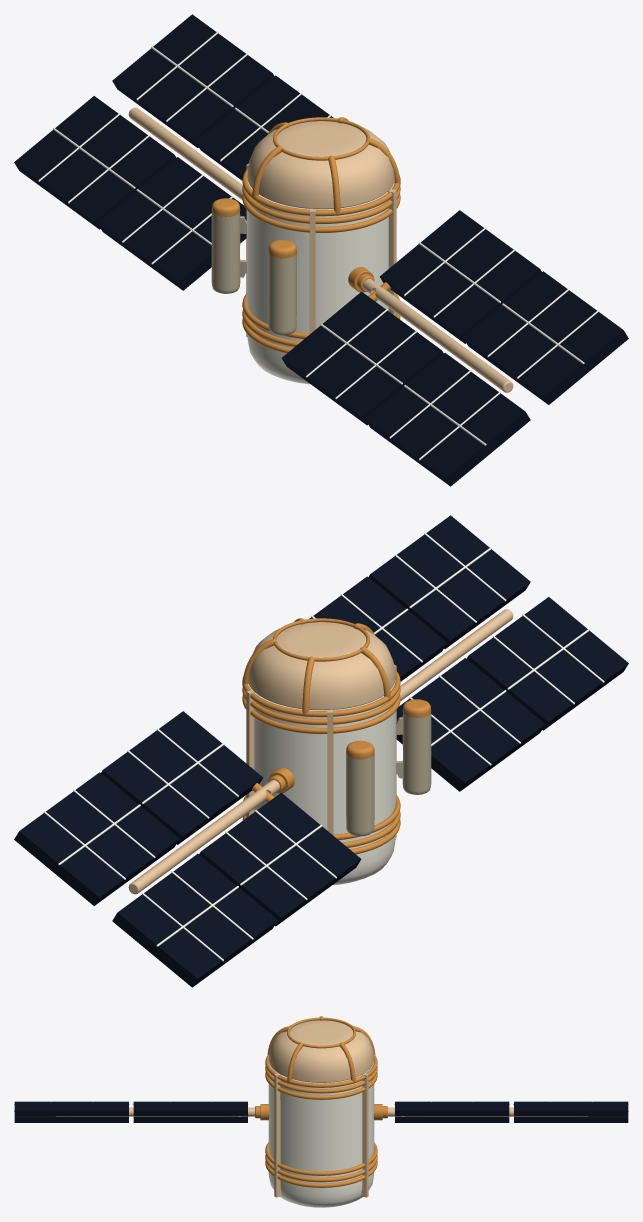
File: ㅇㅜㅈㅜㅈㅓㅇㄱㅓㅈㅏㅇ.fbx
3 renders of one model, top to bottom at view 1: azimuth 30°, elevation 25°; view 2: azimuth 150°, elevation 25°; view 3: azimuth 270°, elevation 25°, orthographic. The views are drawn at different scales.
Visible parts, largest first — view 1: Object_3, Object_6, Object_32, Object_15, Object_5, Object_12, Object_4, Object_29, Object_14, Object_13, Object_25, Object_24 (+14 smaller); view 2: Object_12, Object_15, Object_32, Object_6, Object_3, Object_14, Object_13, Object_29, Object_5, Object_4, Object_25, Object_22 (+14 smaller); view 3: Object_32, Object_29, Object_25, Object_4, Object_13, Object_6, Object_15, Object_35, Object_36, Object_3, Object_12, Object_5 (+8 smaller).
Part boxes in pixels (<box>): Object_3: <box>365,353,530,486</box>; Object_6: <box>463,271,628,404</box>; Object_32: <box>247,179,394,384</box>; Object_15: <box>112,14,274,147</box>; Object_5: <box>281,291,443,425</box>; Object_12: <box>14,96,176,229</box>; Object_4: <box>379,210,541,343</box>; Object_29: <box>247,121,394,209</box>; Object_14: <box>97,157,246,290</box>; Object_13: <box>196,75,333,180</box>; Object_25: <box>242,117,400,216</box>; Object_24: <box>211,212,246,293</box>; Object_12: <box>112,854,277,987</box>; Object_15: <box>14,772,179,905</box>; Object_32: <box>248,680,395,885</box>; Object_6: <box>368,515,530,648</box>; Object_3: <box>466,597,628,730</box>; Object_14: <box>199,792,361,926</box>; Object_13: <box>101,711,263,844</box>; Object_29: <box>248,622,395,710</box>; Object_5: <box>396,658,545,791</box>; Object_4: <box>309,576,446,681</box>; Object_25: <box>242,618,400,717</box>; Object_22: <box>396,713,431,794</box>; Object_32: <box>268,1061,374,1207</box>; Object_29: <box>268,1020,374,1082</box>; Object_25: <box>265,1016,377,1087</box>; Object_4: <box>133,1101,247,1115</box>; Object_13: <box>395,1101,509,1115</box>; Object_6: <box>14,1101,128,1115</box>; Object_15: <box>514,1101,628,1115</box>; Object_35: <box>360,1073,368,1197</box>; Object_36: <box>274,1073,282,1197</box>; Object_3: <box>14,1116,128,1122</box>; Object_12: <box>514,1116,628,1122</box>; Object_5: <box>133,1116,247,1122</box>.
Bounding box in the file's own units: 120 × 140 × 486.
